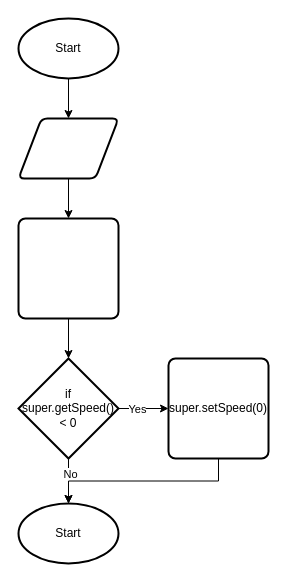
This 286x581 diagram has some shape labels left out. Each missing label, with the centre of its shape:
"input airPressure" goes at (68,148).
"Set speed to super.getSpeed() - airPressure / 2" goes at (68,268).
